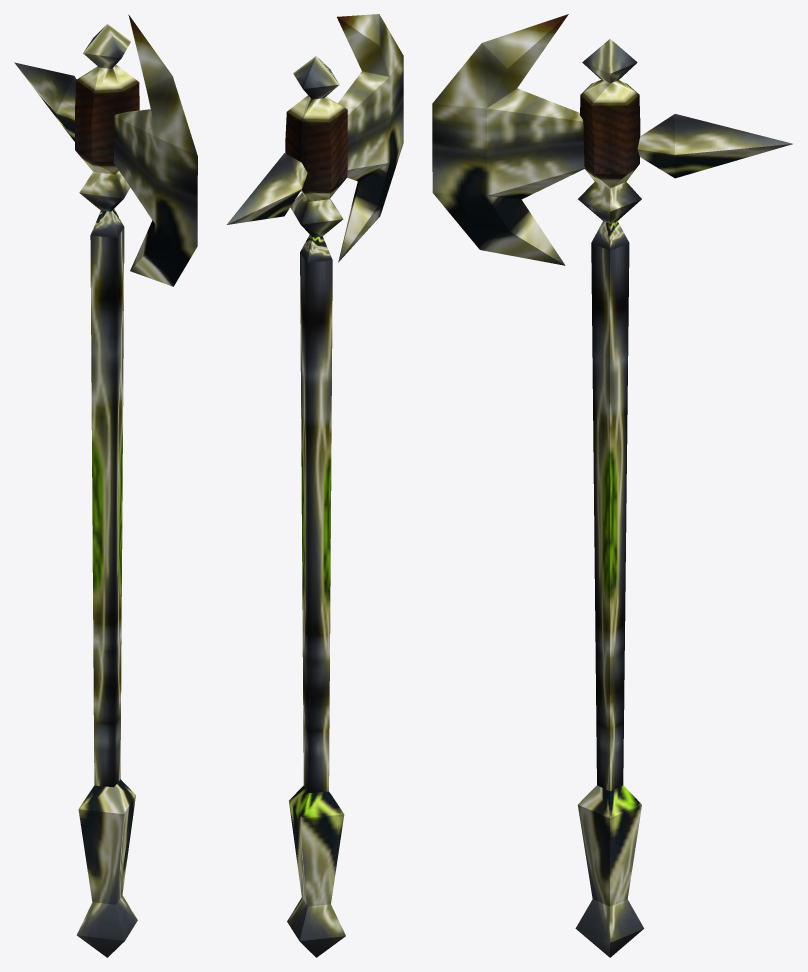
The model's file is heavyaxeman01_5.obj.
3 views of the same model, side by side, from view 1: azimuth 30°, elevation 25°; view 2: azimuth 150°, elevation 25°; view 3: azimuth 270°, elevation 25° (orthographic). The views are drawn at different scales.
Parts seen in each view (by area): view 1: heavyaxeman01_5; view 2: heavyaxeman01_5; view 3: heavyaxeman01_5.
Boxes of the visible parts, x1,y1,x2,y2 form: heavyaxeman01_5: (14, 14, 197, 957); heavyaxeman01_5: (226, 14, 403, 957); heavyaxeman01_5: (432, 14, 792, 957).
Bounding box in the file's own units: 0.1988 × 2.97 × 1.03.
